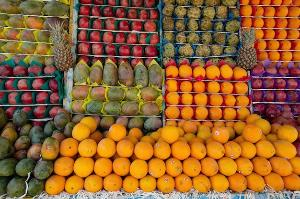apricot: (164, 65, 254, 127), (241, 0, 300, 62)
mango: (69, 59, 169, 127), (0, 118, 54, 199), (0, 0, 70, 58)
orange: (54, 117, 300, 197)
